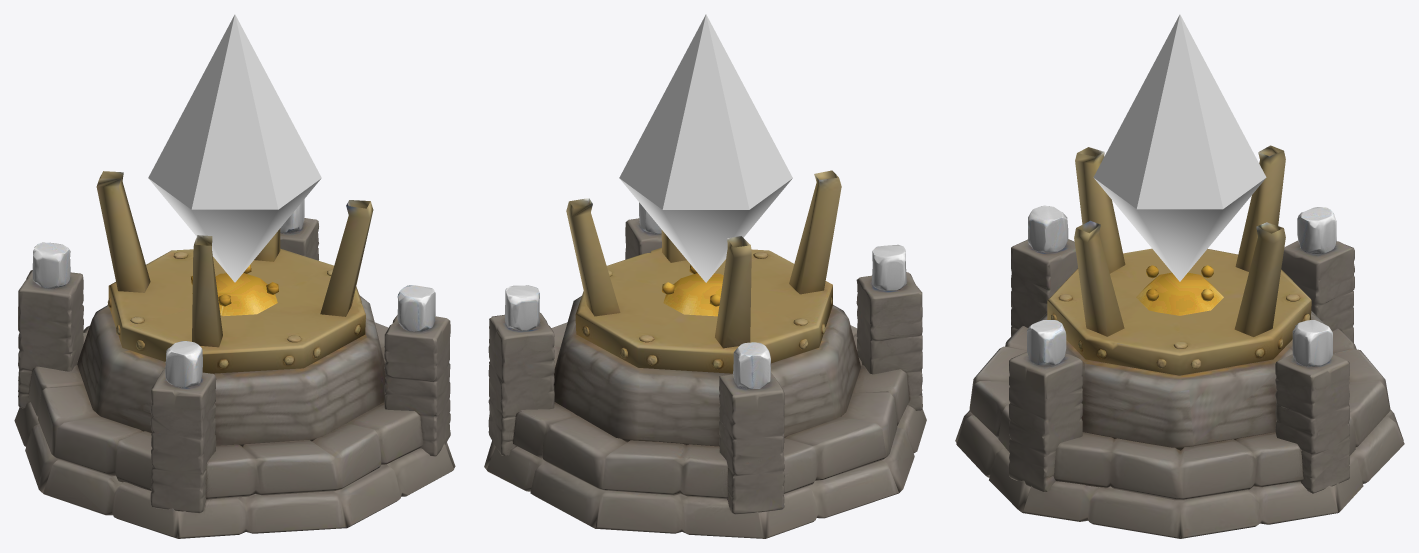
File: core.glb
The picture shows the model from 3 angles, left to right: view 1: azimuth 30°, elevation 25°; view 2: azimuth 150°, elevation 25°; view 3: azimuth 270°, elevation 25°; orthographic projection.
Parts seen in each view (by area): view 1: core, crystal, core_cradle; view 2: core, crystal, core_cradle; view 3: core, crystal, core_cradle.
Part boxes in pixels (bbox=[...]): core: bbox=[14, 171, 455, 538]; crystal: bbox=[148, 14, 321, 282]; core_cradle: bbox=[191, 264, 278, 316]; core: bbox=[484, 170, 926, 538]; crystal: bbox=[619, 14, 792, 282]; core_cradle: bbox=[662, 264, 723, 316]; core: bbox=[955, 145, 1404, 538]; crystal: bbox=[1093, 14, 1266, 281]; core_cradle: bbox=[1136, 265, 1223, 315].
Size of the model in its own units: 3.1 by 3.3 by 3.11.
Materials: 4 (3 with a texture image).
